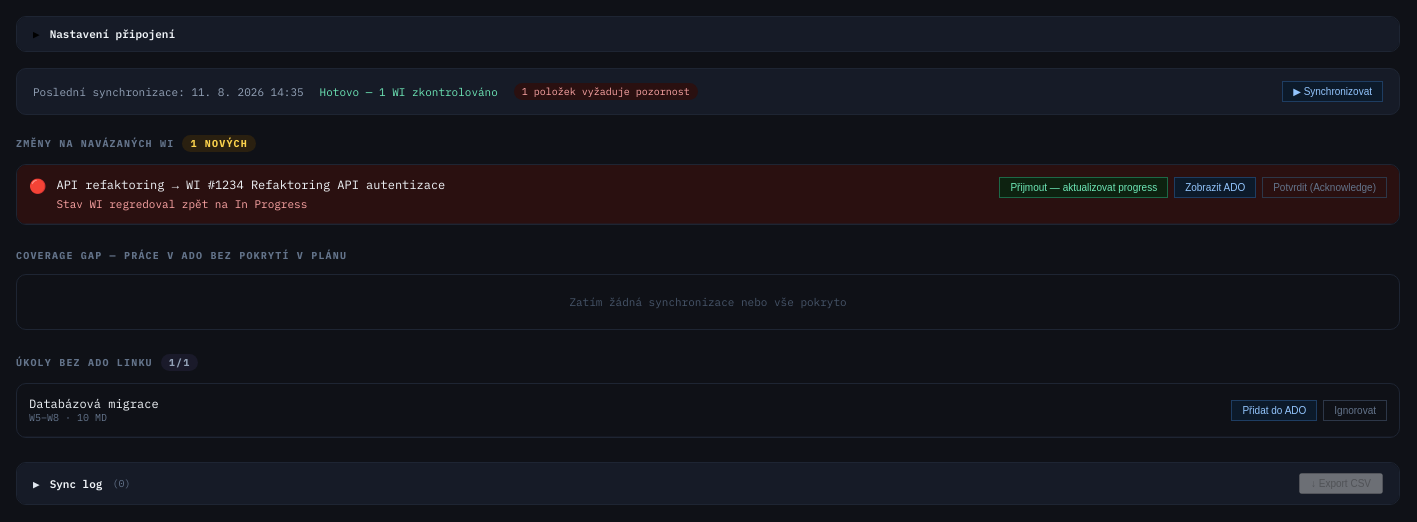
it: AdoSyncView — změny na navázaných WI › potvrzená změna zmizí ze seznamu a jde na server jako rozhodnutí
Step 1. Click the button "Potvrdit (Acknowledge)" → (1325, 188), box [1262,177,1387,198]
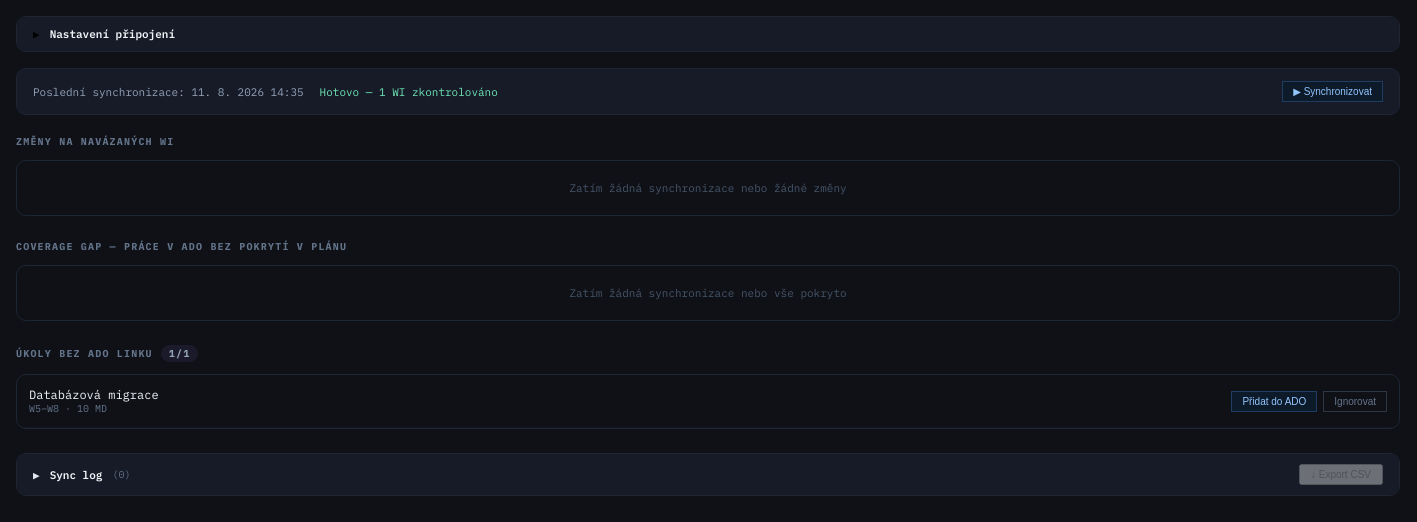
expect the text "Stav WI regredoval zpět na In Progress" is gone: met
